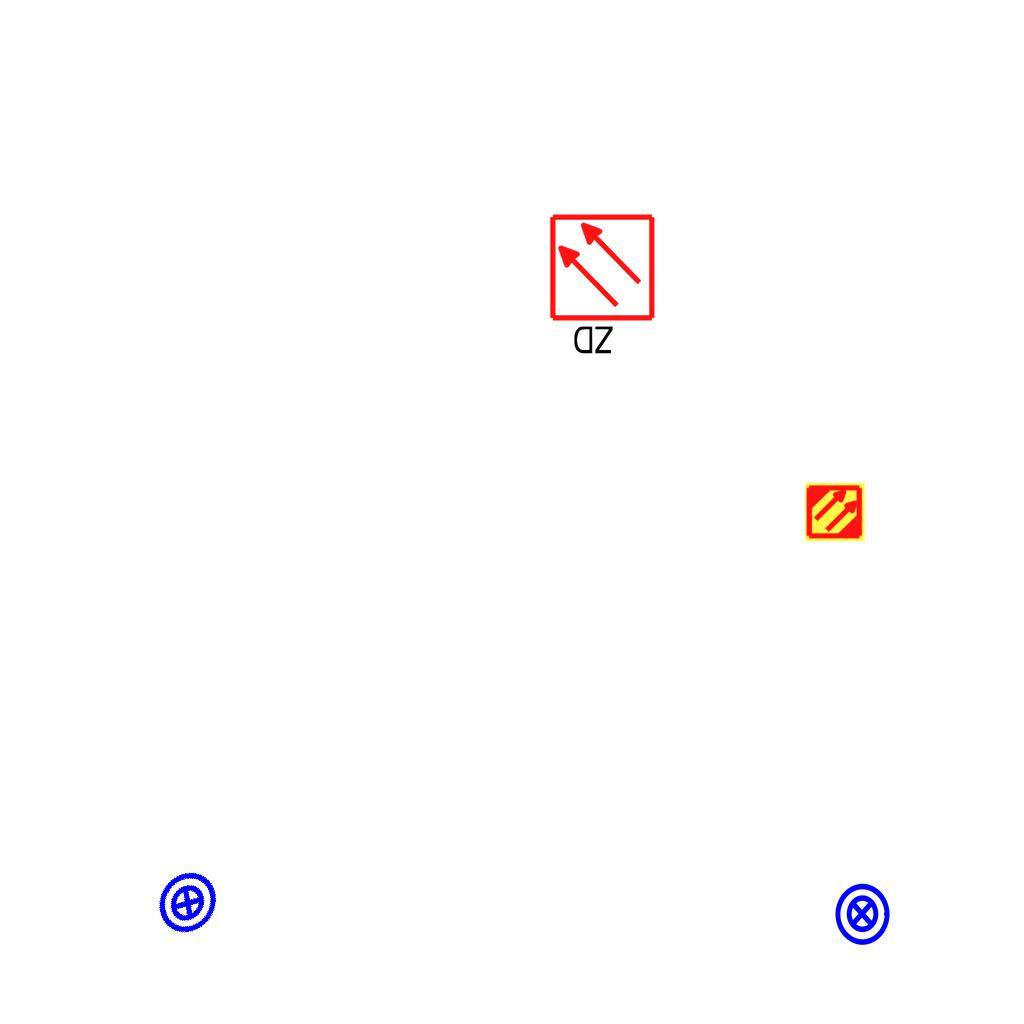ASR_Ansaugrauchmelder: (804, 481, 866, 543)
Taster_beleuchtet: (142, 857, 234, 949), (829, 881, 895, 947)
ZD_Melder_in_Zwischendecke_mit_Revisionsoeffnung_mind_40_x_40_cm: (547, 212, 661, 361)
